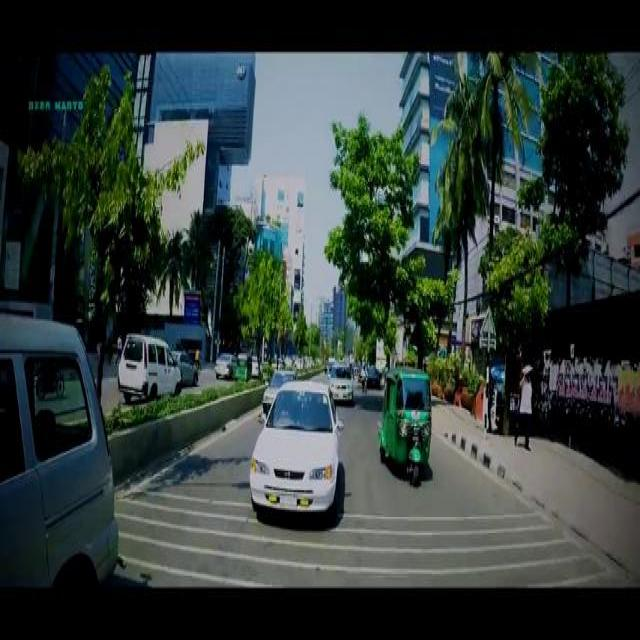car: (248, 378, 336, 512), (260, 368, 294, 407), (328, 360, 352, 398), (173, 348, 199, 381), (213, 352, 235, 374)
minivan: (116, 331, 180, 395)
three wheelers -CNG-: (377, 364, 431, 483), (233, 349, 251, 377)
